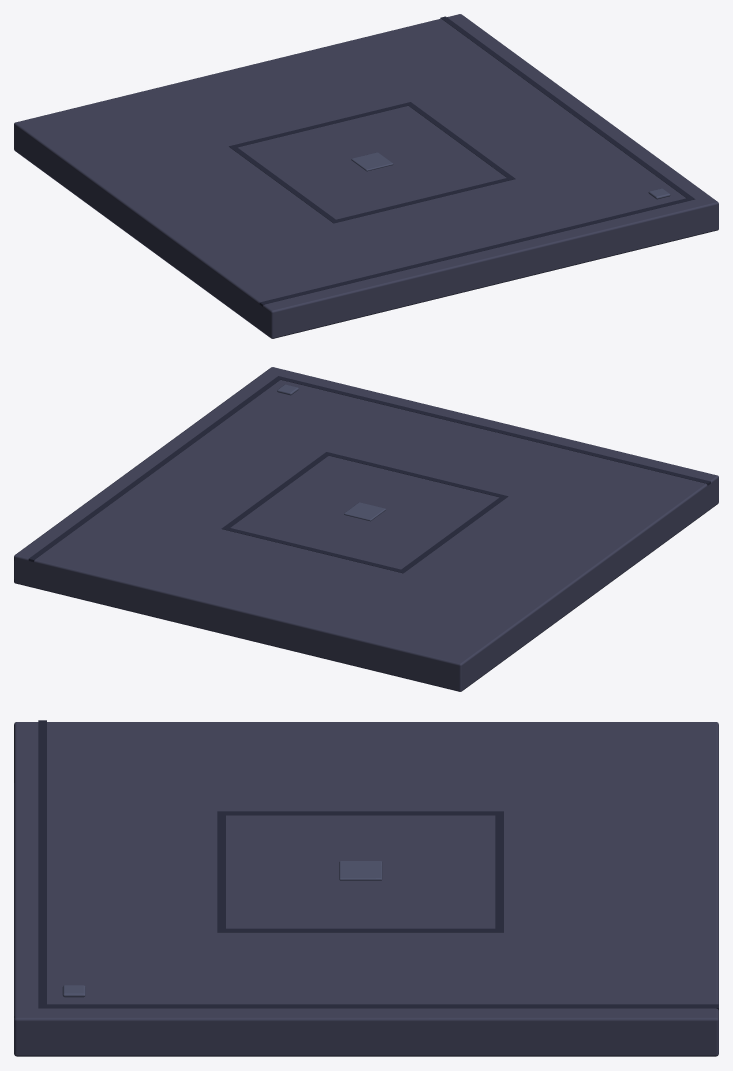
Rendered from floor.plate.ES+sub.glb.
The picture shows the model from 3 angles, top to bottom: view 1: azimuth 30°, elevation 25°; view 2: azimuth 150°, elevation 25°; view 3: azimuth 270°, elevation 25°; orthographic projection. The views are drawn at different scales.
Parts seen in each view (by area): view 1: floor.plate.ES+sub; view 2: floor.plate.ES+sub; view 3: floor.plate.ES+sub.
Part boxes in pixels (x1=…): floor.plate.ES+sub: x1=14, y1=14, x2=718, y2=338; floor.plate.ES+sub: x1=14, y1=367, x2=718, y2=691; floor.plate.ES+sub: x1=14, y1=720, x2=718, y2=1056.
Size of the model in its own units: 0.984 by 0.066 by 0.984.
